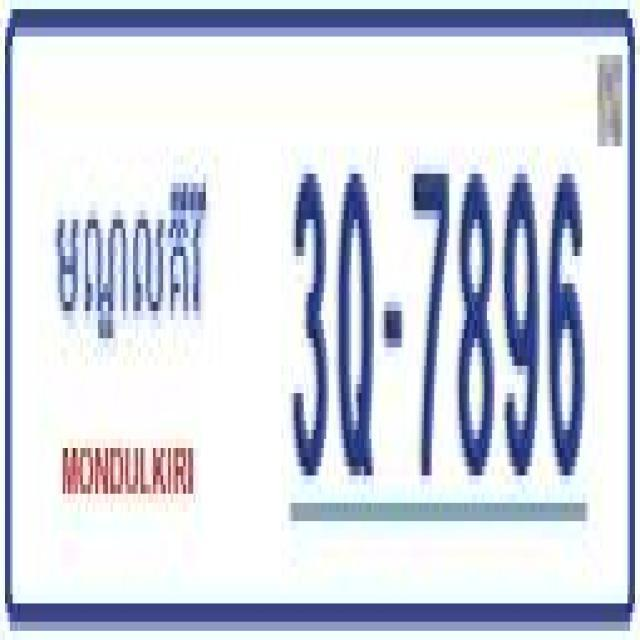Mondul_Kiri: (53, 165, 208, 370)
